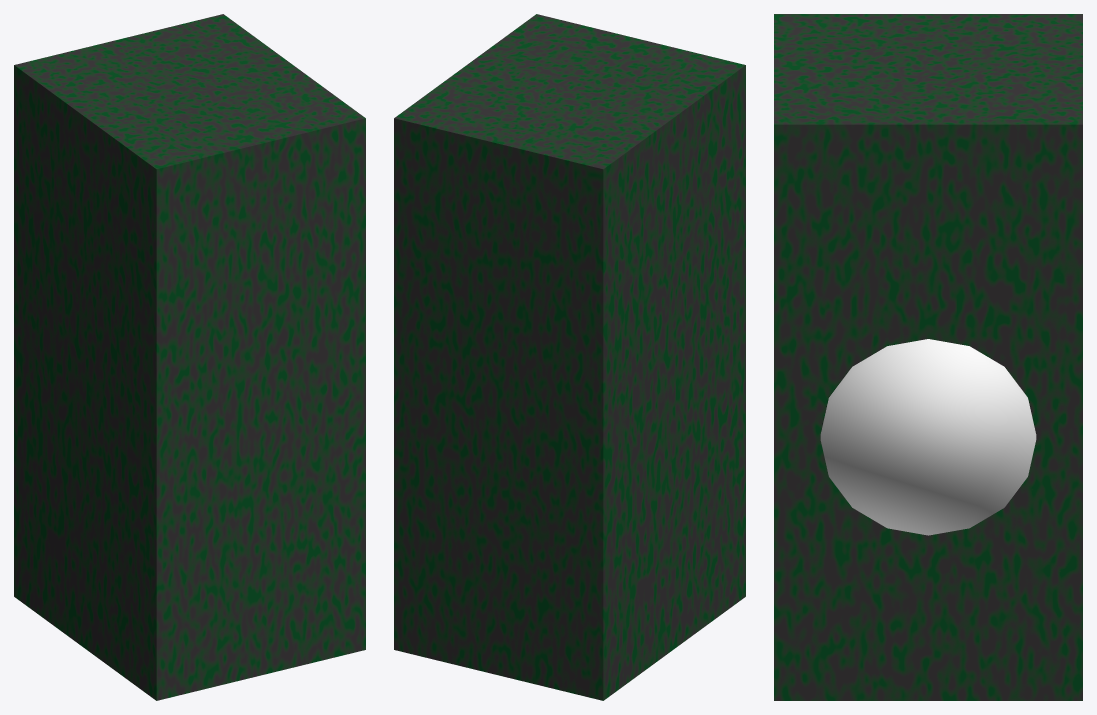
File: speakerTest.glb
The picture shows the model from 3 angles, left to right: view 1: azimuth 30°, elevation 25°; view 2: azimuth 150°, elevation 25°; view 3: azimuth 270°, elevation 25°; orthographic projection. The views are drawn at different scales.
Parts seen in each view (by area): view 1: Cube.001; view 2: Cube.001; view 3: Cube.001.
Boxes of the visible parts, x1,y1,x2,y2 form: Cube.001: [14, 14, 365, 700]; Cube.001: [394, 14, 745, 700]; Cube.001: [774, 14, 1082, 700].
Size of the model in its own units: 0.3467 by 0.7972 by 0.3872.
Materials: 2 (1 with a texture image).
